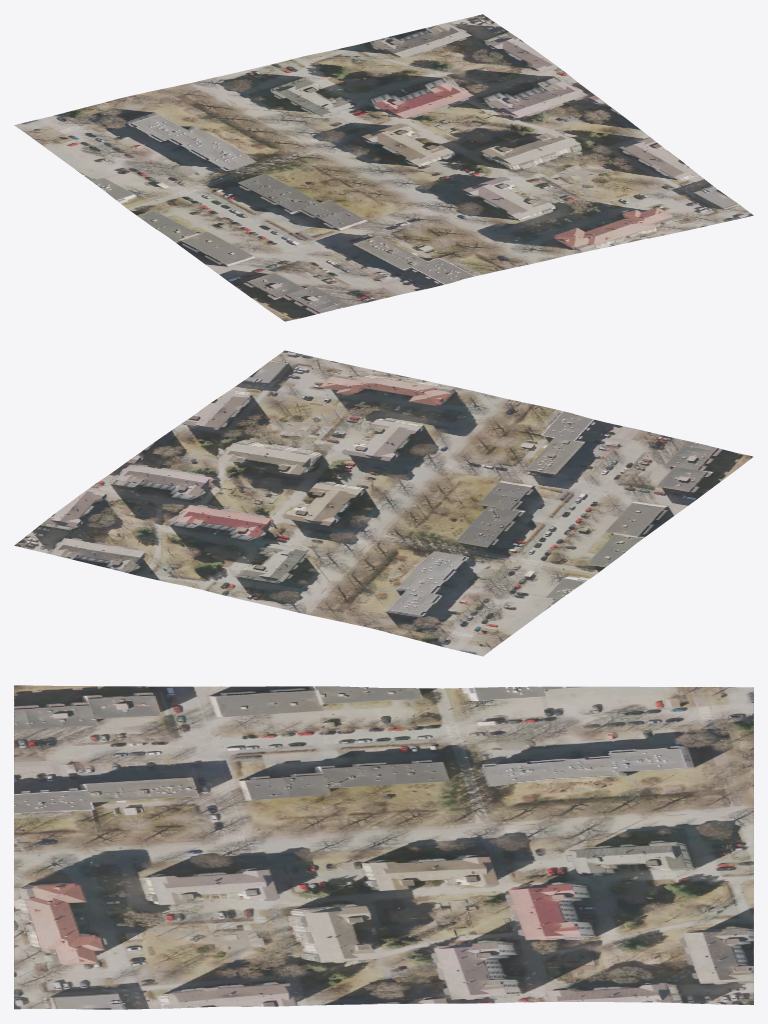
Rendered from CM_Terrain_24486363_6821227.fbx.
3 views of the same model, one above another, from view 1: azimuth 30°, elevation 25°; view 2: azimuth 150°, elevation 25°; view 3: azimuth 270°, elevation 25° (orthographic). The views are drawn at different scales.
Parts seen in each view (by area): view 1: CM_Terrain_24486363_6821227_LOD0; view 2: CM_Terrain_24486363_6821227_LOD0; view 3: CM_Terrain_24486363_6821227_LOD0.
Part boxes in pixels (x1=…): CM_Terrain_24486363_6821227_LOD0: x1=14, y1=14, x2=753, y2=321; CM_Terrain_24486363_6821227_LOD0: x1=14, y1=350, x2=753, y2=656; CM_Terrain_24486363_6821227_LOD0: x1=14, y1=685, x2=753, y2=1009.
Size of what is drawn, in the model's own units: 205 by 4.18 by 205.
